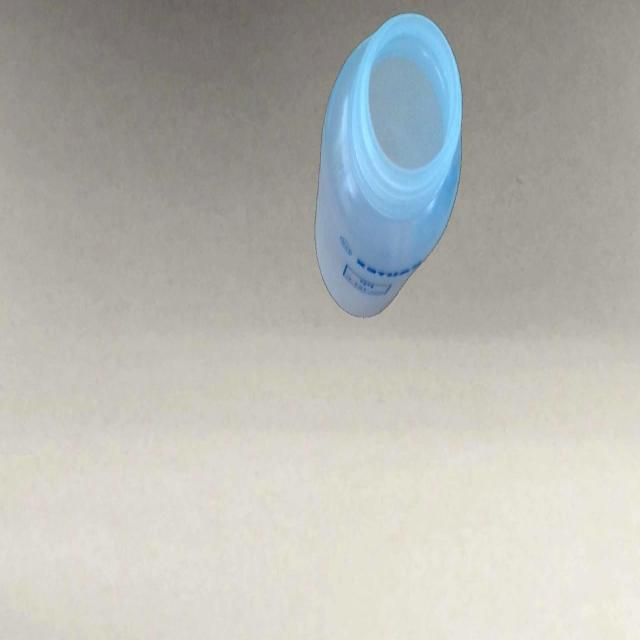bottle: (313, 5, 467, 321)
